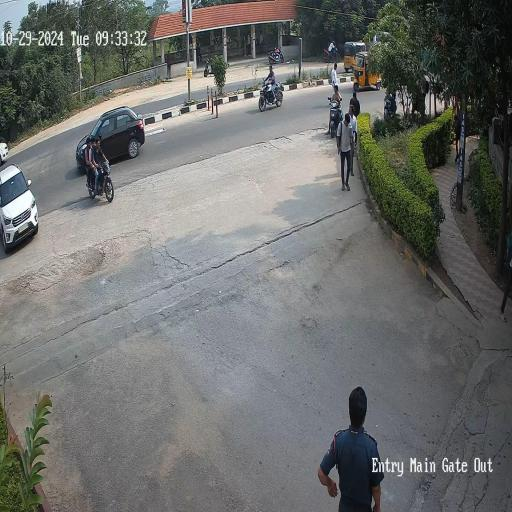no helmet: (327, 81, 348, 105), (265, 64, 282, 85)
triple riding: (82, 134, 123, 204)
